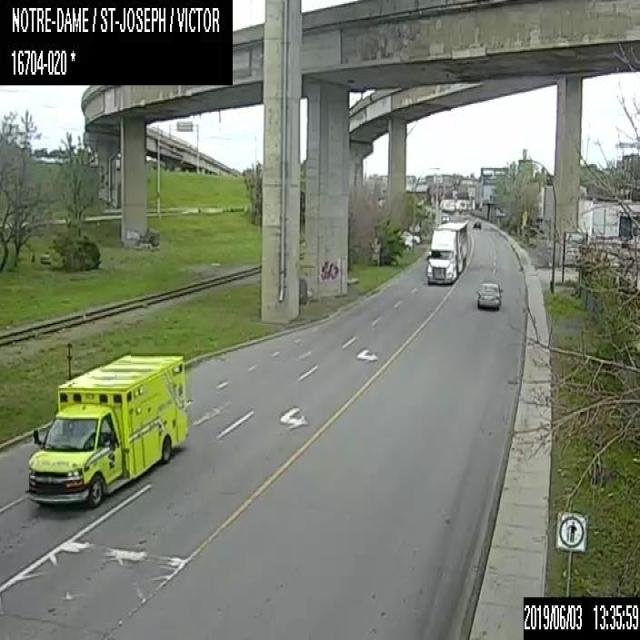vehicle: (28, 354, 188, 507), (425, 218, 467, 285), (475, 281, 503, 309), (472, 218, 481, 228), (440, 214, 450, 222)
